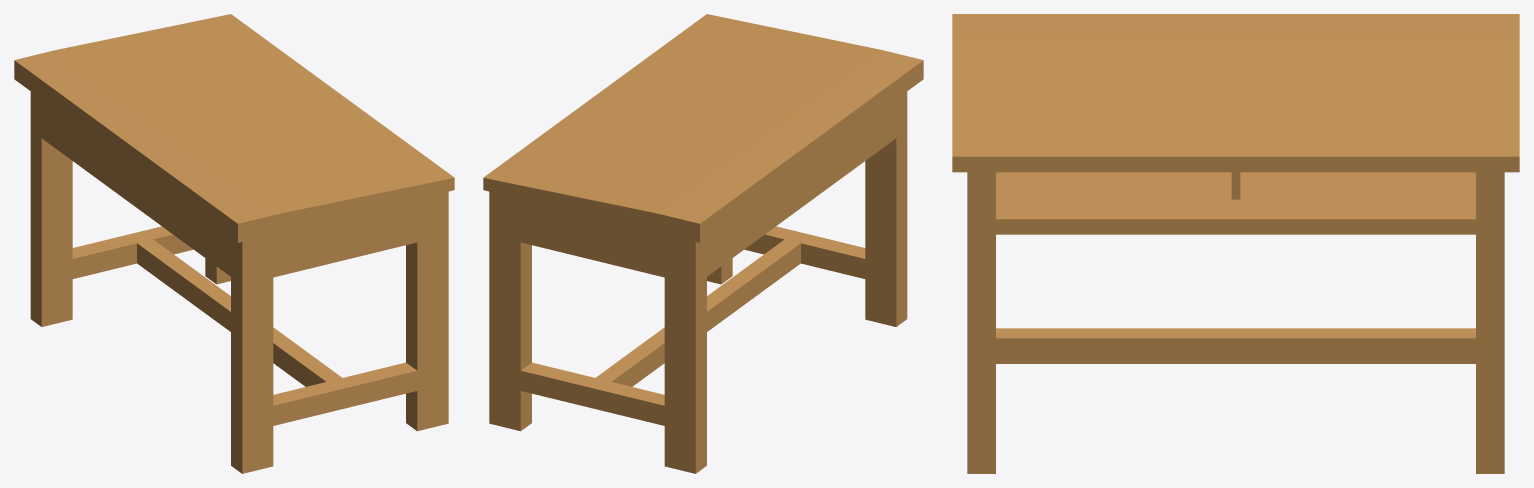
File: meja.fbx
The picture shows the model from 3 angles, left to right: view 1: azimuth 30°, elevation 25°; view 2: azimuth 150°, elevation 25°; view 3: azimuth 270°, elevation 25°; orthographic projection. The views are drawn at different scales.
Visible parts, largest first — view 1: Cube.001; view 2: Cube.001; view 3: Cube.001.
Boxes of the visible parts, <box> form: Cube.001: <box>14,14,454,473</box>; Cube.001: <box>483,14,923,473</box>; Cube.001: <box>952,14,1519,473</box>.
Size of the model in its own units: 210 by 238 by 375.
